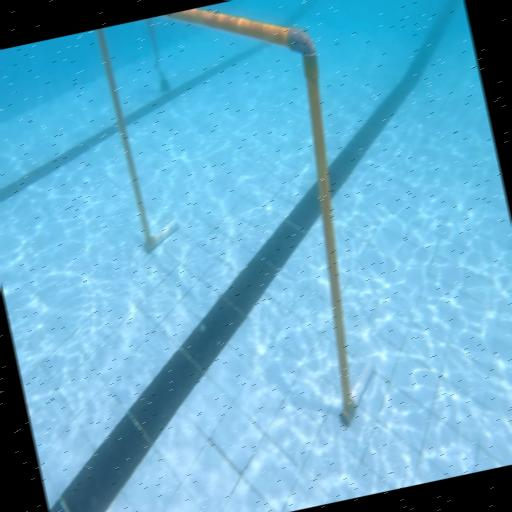gate: (96, 0, 394, 460)
